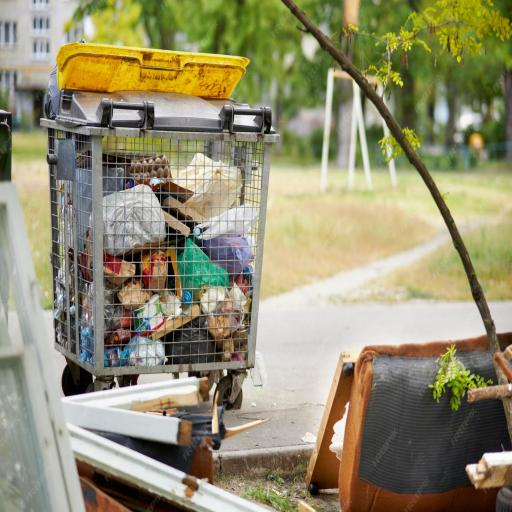contenedor_lleno: (41, 43, 279, 408)
